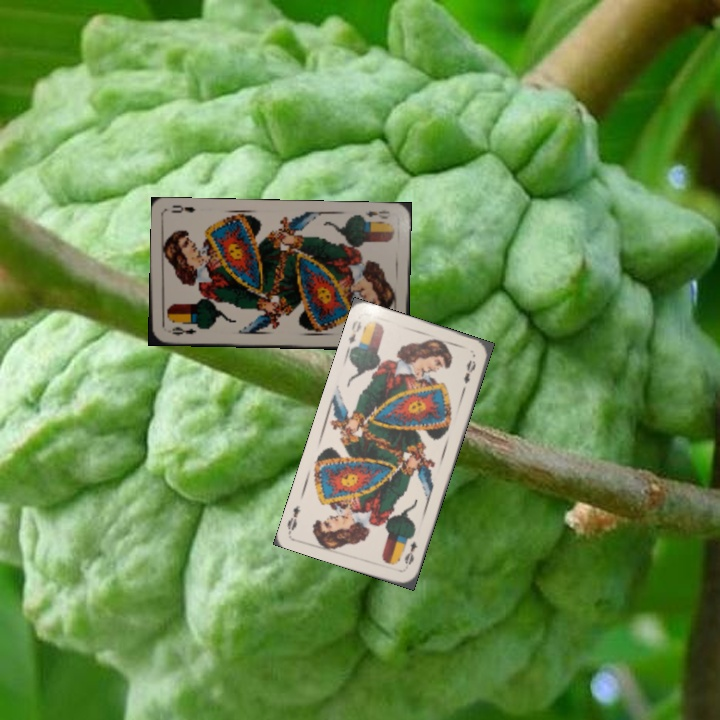EO: (343, 316, 368, 354), (400, 537, 420, 567), (163, 323, 198, 338), (362, 206, 392, 222)
